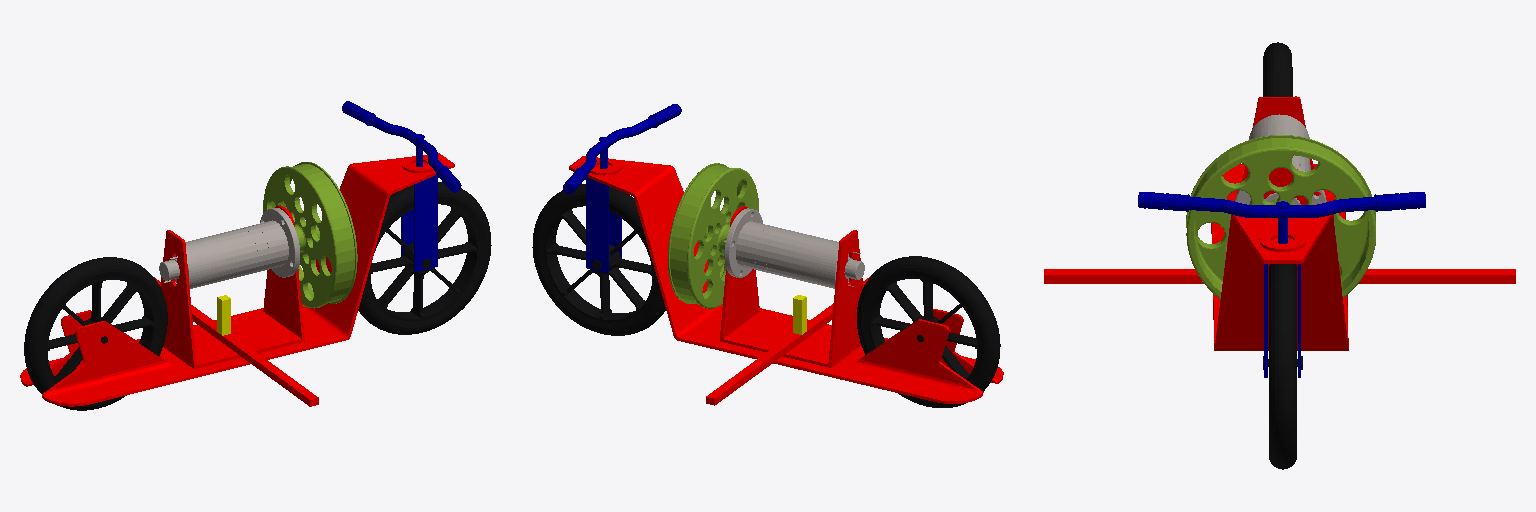
URDF robot description (self_balancing_bike):
<?xml version="1.0" encoding="utf-8"?>
<!-- This URDF was automatically created by SolidWorks to URDF Exporter! Originally created by [author] ([email redacted]) 
     Commit Version: 1.6.0-4-g7f85cfe  Build Version: 1.6.7995.38578
     For more information, please see http://wiki.ros.org/sw_urdf_exporter -->
<robot
  name="self_balancing_bike">
  <link
    name="base_link">
    <inertial>
      <origin
        xyz="0.0057072 9.0919E-05 0.020035"
        rpy="0 0 0" />
      <mass
        value="0.62387" />
      <inertia
        ixx="0.0013004"
        ixy="-4.102E-05"
        ixz="-0.000955"
        iyy="0.0050851"
        iyz="-9.3531E-06"
        izz="0.0050188" />
    </inertial>
    <visual>
      <origin
        xyz="0 0 0"
        rpy="0 0 0" />
      <geometry>
        <mesh
          filename="package://self_balancing_bike/meshes/base_link.STL" />
      </geometry>
      <material
        name="">
        <color
          rgba="1 0 0 1" />
      </material>
    </visual>
    <collision>
      <origin
        xyz="0 0 0"
        rpy="0 0 0" />
      <geometry>
        <mesh
          filename="package://self_balancing_bike/meshes/base_link.STL" />
      </geometry>
    </collision>
  </link>
  <link
    name="imu_link">
    <inertial>
      <origin
        xyz="-3.4694E-18 -1.6193E-05 -0.015"
        rpy="0 0 0" />
      <mass
        value="0.008832" />
      <inertia
        ixx="7.095E-07"
        ixy="-1.4027E-25"
        ixz="1.6502E-39"
        iyy="7.095E-07"
        iyz="1.697E-39"
        izz="9.4208E-08" />
    </inertial>
    <visual>
      <origin
        xyz="0 0 0"
        rpy="0 0 0" />
      <geometry>
        <mesh
          filename="package://self_balancing_bike/meshes/imu_link.STL" />
      </geometry>
      <material
        name="">
        <color
          rgba="0.9 0.9 0 1" />
      </material>
    </visual>
    <collision>
      <origin
        xyz="0 0 0"
        rpy="0 0 0" />
      <geometry>
        <mesh
          filename="package://self_balancing_bike/meshes/imu_link.STL" />
      </geometry>
    </collision>
  </link>
  <joint
    name="imu_joint"
    type="fixed">
    <origin
      xyz="0 0 0.036"
      rpy="0 0 0" />
    <parent
      link="base_link" />
    <child
      link="imu_link" />
    <axis
      xyz="0 0 0" />
  </joint>
  <link
    name="rear_wheel_link">
    <inertial>
      <origin
        xyz="5.7718E-14 6.0024E-13 -1.4024E-14"
        rpy="0 0 0" />
      <mass
        value="0.2475" />
      <inertia
        ixx="0.00028923"
        ixy="-1.546E-17"
        ixz="-3.4005E-15"
        iyy="0.00056923"
        iyz="-8.2688E-17"
        izz="0.00028923" />
    </inertial>
    <visual>
      <origin
        xyz="0 0 0"
        rpy="0 0 0" />
      <geometry>
        <mesh
          filename="package://self_balancing_bike/meshes/rear_wheel_link.STL" />
      </geometry>
      <material
        name="">
        <color
          rgba="0.1 0.1 0.1 1" />
      </material>
    </visual>
    <collision>
      <origin
        xyz="0 0 0"
        rpy="0 0 0" />
      <geometry>
        <mesh
          filename="package://self_balancing_bike/meshes/rear_wheel_link.STL" />
      </geometry>
    </collision>
  </link>
  <joint
    name="rear_wheel_joint"
    type="continuous">
    <origin
      xyz="-0.11568 -0.0010941 0.0325"
      rpy="0 0 0.0097934" />
    <parent
      link="base_link" />
    <child
      link="rear_wheel_link" />
    <axis
      xyz="0 1 0" />
    <limit
      effort="30"
      velocity="10.47" />
    <dynamics
      damping="0.0001"
      friction="0.0001" />
  </joint>
  <link
    name="handle_link">
    <inertial>
      <origin
        xyz="-0.0050512 -0.00029793 -0.028916"
        rpy="0 0 0" />
      <mass
        value="0.084166" />
      <inertia
        ixx="0.00015542"
        ixy="3.2034E-09"
        ixz="7.8858E-09"
        iyy="2.5174E-05"
        iyz="2.8994E-10"
        izz="0.00013607" />
    </inertial>
    <visual>
      <origin
        xyz="0 0 0"
        rpy="0 0 0" />
      <geometry>
        <mesh
          filename="package://self_balancing_bike/meshes/handle_link.STL" />
      </geometry>
      <material
        name="">
        <color
          rgba="0 0 0.65 1" />
      </material>
    </visual>
    <collision>
      <origin
        xyz="0 0 0"
        rpy="0 0 0" />
      <geometry>
        <mesh
          filename="package://self_balancing_bike/meshes/handle_link.STL" />
      </geometry>
    </collision>
  </link>
  <joint
    name="handle_joint"
    type="revolute">
    <origin
      xyz="0.17612 0.0017637 0.1325"
      rpy="0 0 0" />
    <parent
      link="base_link" />
    <child
      link="handle_link" />
    <axis
      xyz="0 0 -1" />
    <limit
      lower="-1.0472"
      upper="1.0472"
      effort="20"
      velocity="6.28" />
    <dynamics
      damping="0.0001"
      friction="0.0001" />
  </joint>
  <link
    name="front_wheel_link">
    <inertial>
      <origin
        xyz="5.7593E-14 6.0145E-13 -1.4981E-14"
        rpy="0 0 0" />
      <mass
        value="0.24701" />
      <inertia
        ixx="0.00028917"
        ixy="-1.6813E-17"
        ixz="-3.4026E-15"
        iyy="0.00056923"
        iyz="-8.2388E-17"
        izz="0.00028917" />
    </inertial>
    <visual>
      <origin
        xyz="0 0 0"
        rpy="0 0 0" />
      <geometry>
        <mesh
          filename="package://self_balancing_bike/meshes/front_wheel_link.STL" />
      </geometry>
      <material
        name="">
        <color
          rgba="0.1 0.1 0.1 1" />
      </material>
    </visual>
    <collision>
      <origin
        xyz="0 0 0"
        rpy="0 0 0" />
      <geometry>
        <mesh
          filename="package://self_balancing_bike/meshes/front_wheel_link.STL" />
      </geometry>
    </collision>
  </link>
  <joint
    name="front_wheel_joint"
    type="continuous">
    <origin
      xyz="-0.00022305 -2.5562E-05 -0.1042"
      rpy="0 0 0" />
    <parent
      link="handle_link" />
    <child
      link="front_wheel_link" />
    <axis
      xyz="0 1 0" />
    <dynamics
      damping="0.0001"
      friction="0.0001" />
  </joint>
  <link
    name="rw_motor_link">
    <inertial>
      <origin
        xyz="-0.012449 -0.00012011 1.0704E-06"
        rpy="0 0 0" />
      <mass
        value="0.49778" />
      <inertia
        ixx="9.1585E-05"
        ixy="-3.6499E-06"
        ixz="1.0994E-08"
        iyy="0.00046554"
        iyz="3.0638E-09"
        izz="0.00046557" />
    </inertial>
    <visual>
      <origin
        xyz="0 0 0"
        rpy="0 0 0" />
      <geometry>
        <mesh
          filename="package://self_balancing_bike/meshes/rw_motor_link.STL" />
      </geometry>
      <material
        name="">
        <color
          rgba="0.68627 0.65882 0.63922 1" />
      </material>
    </visual>
    <collision>
      <origin
        xyz="0 0 0"
        rpy="0 0 0" />
      <geometry>
        <mesh
          filename="package://self_balancing_bike/meshes/rw_motor_link.STL" />
      </geometry>
    </collision>
  </link>
  <joint
    name="rw_motor_joint"
    type="fixed">
    <origin
      xyz="0.0196 0.00023076 0.071352"
      rpy="0 0 0" />
    <parent
      link="base_link" />
    <child
      link="rw_motor_link" />
    <axis
      xyz="0 0 0" />
  </joint>
  <link
    name="rw_link">
    <inertial>
      <origin
        xyz="0.005098 4.471E-05 -1.9127E-06"
        rpy="0 0 0" />
      <mass
        value="0.41664" />
      <inertia
        ixx="0.00076419"
        ixy="3.5819E-06"
        ixz="-8.9815E-09"
        iyy="0.00039599"
        iyz="5.2898E-09"
        izz="0.00039595" />
    </inertial>
    <visual>
      <origin
        xyz="0 0 0"
        rpy="0 0 0" />
      <geometry>
        <mesh
          filename="package://self_balancing_bike/meshes/rw_link.STL" />
      </geometry>
      <material
        name="">
        <color
          rgba="0.5 0.65 0.2 1" />
      </material>
    </visual>
    <collision>
      <origin
        xyz="0 0 0"
        rpy="0 0 0" />
      <geometry>
        <mesh
          filename="package://self_balancing_bike/meshes/rw_link.STL" />
      </geometry>
    </collision>
  </link>
  <joint
    name="rw_joint"
    type="continuous">
    <origin
      xyz="0.047915 0.00046926 0"
      rpy="0 0 0" />
    <parent
      link="rw_motor_link" />
    <child
      link="rw_link" />
    <axis
      xyz="0.99995 0.0097932 0" />
    <limit
      effort="100"
      velocity="25" />
    <dynamics
      damping="0.0001"
      friction="0.0004" />
  </joint>
</robot>

--- What the picture shows (computed from the rendered views, not written in the file) ---
The picture shows the robot from 3 angles, left to right: view 1: azimuth 30°, elevation 25°; view 2: azimuth 150°, elevation 25°; view 3: azimuth 270°, elevation 25°; orthographic projection.
Model self_balancing_bike with 7 links and 6 joints (1 revolute, 3 continuous, 2 fixed), rooted at base_link, posed all joints at 0.
Visible links, largest first — view 1: base_link, front_wheel_link, rear_wheel_link, rw_link, rw_motor_link, handle_link, imu_link; view 2: base_link, front_wheel_link, rear_wheel_link, rw_link, rw_motor_link, handle_link, imu_link; view 3: base_link, rw_link, front_wheel_link, handle_link, rw_motor_link, rear_wheel_link.
Boxes of the visible links, <box> form: base_link: <box>20,153,454,406</box>; front_wheel_link: <box>358,182,491,334</box>; rear_wheel_link: <box>24,257,167,410</box>; rw_link: <box>263,162,357,308</box>; rw_motor_link: <box>159,208,299,288</box>; handle_link: <box>342,101,461,271</box>; imu_link: <box>217,295,230,335</box>; base_link: <box>569,156,1003,405</box>; front_wheel_link: <box>532,184,665,335</box>; rear_wheel_link: <box>857,256,1000,407</box>; rw_link: <box>668,163,758,308</box>; rw_motor_link: <box>724,208,864,288</box>; handle_link: <box>563,104,681,273</box>; imu_link: <box>793,295,806,334</box>; base_link: <box>1044,96,1515,350</box>; rw_link: <box>1186,135,1375,299</box>; front_wheel_link: <box>1263,264,1302,469</box>; handle_link: <box>1138,192,1425,377</box>; rw_motor_link: <box>1235,114,1326,204</box>; rear_wheel_link: <box>1263,42,1292,96</box>.
Size in the robot's own frame: 0.4185 by 0.28 by 0.1682 metres.
Meshes: 7 distinct files referenced, 7 mesh visuals loaded (7 binary STL).